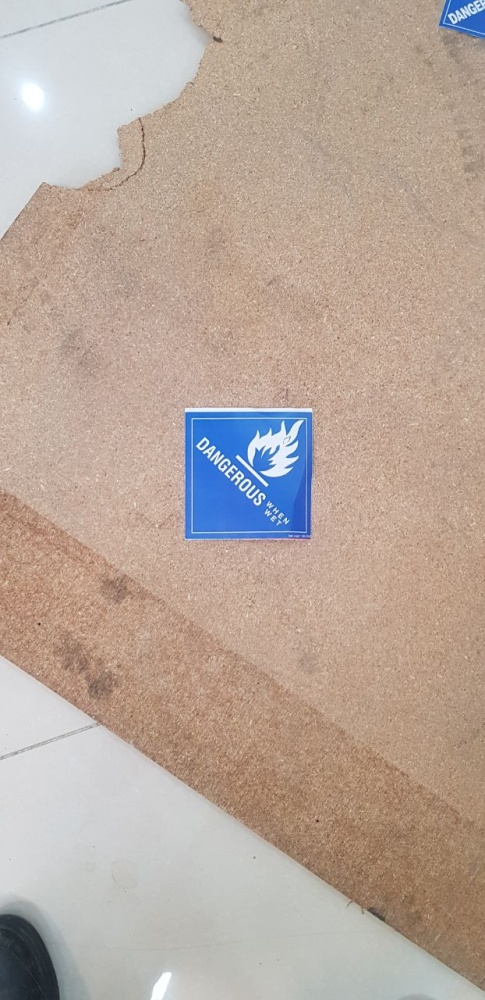Dangerous when wet: (185, 412, 312, 539), (439, 1, 485, 37)
